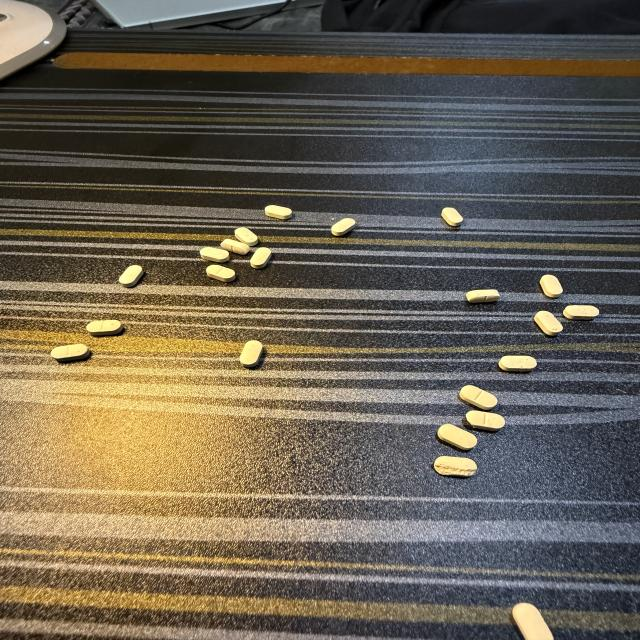pill: (512, 603, 553, 639), (438, 424, 477, 450), (460, 385, 497, 410), (434, 457, 477, 476), (466, 410, 504, 431), (534, 311, 562, 336), (51, 344, 90, 361), (240, 341, 263, 368), (499, 356, 536, 372), (563, 305, 600, 320), (119, 265, 144, 287), (87, 320, 122, 335), (540, 275, 562, 297), (207, 265, 235, 282), (200, 247, 229, 263), (221, 239, 249, 255), (331, 218, 355, 236), (251, 247, 271, 268), (467, 290, 499, 303), (235, 228, 258, 246), (442, 207, 463, 226), (265, 205, 292, 219)
